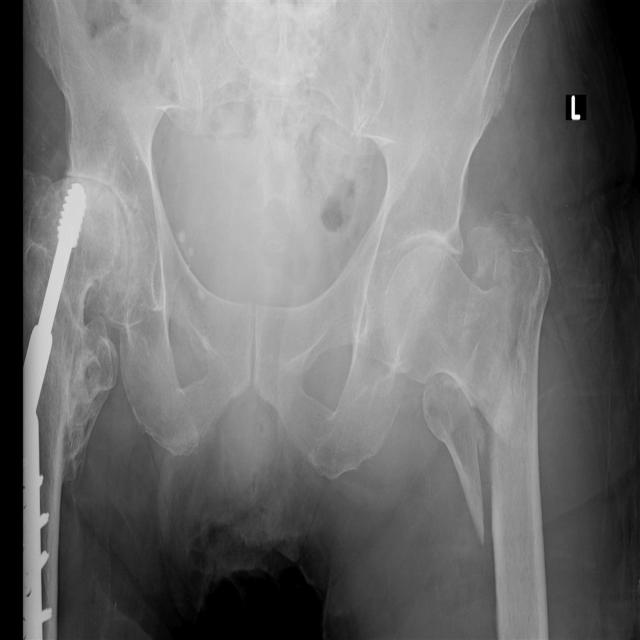left-intertrochanteric: (458, 212, 551, 516), (385, 244, 507, 444)
left-lesser-trochanter: (422, 375, 486, 546)
